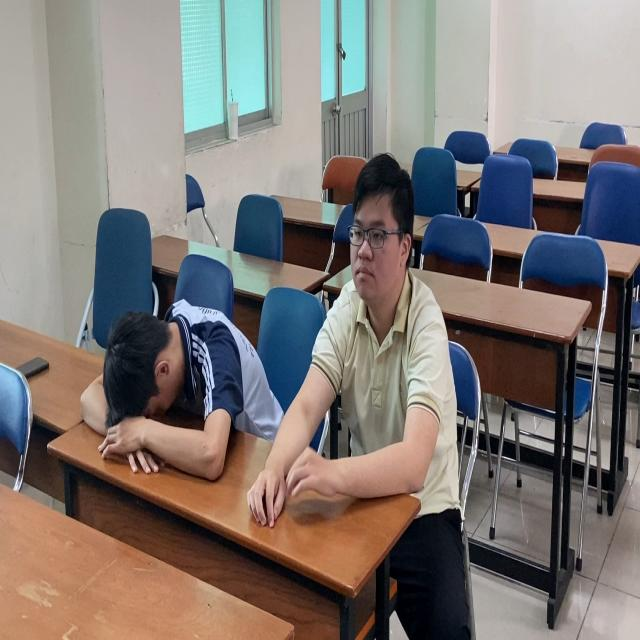sleep: (80, 293, 262, 486)
